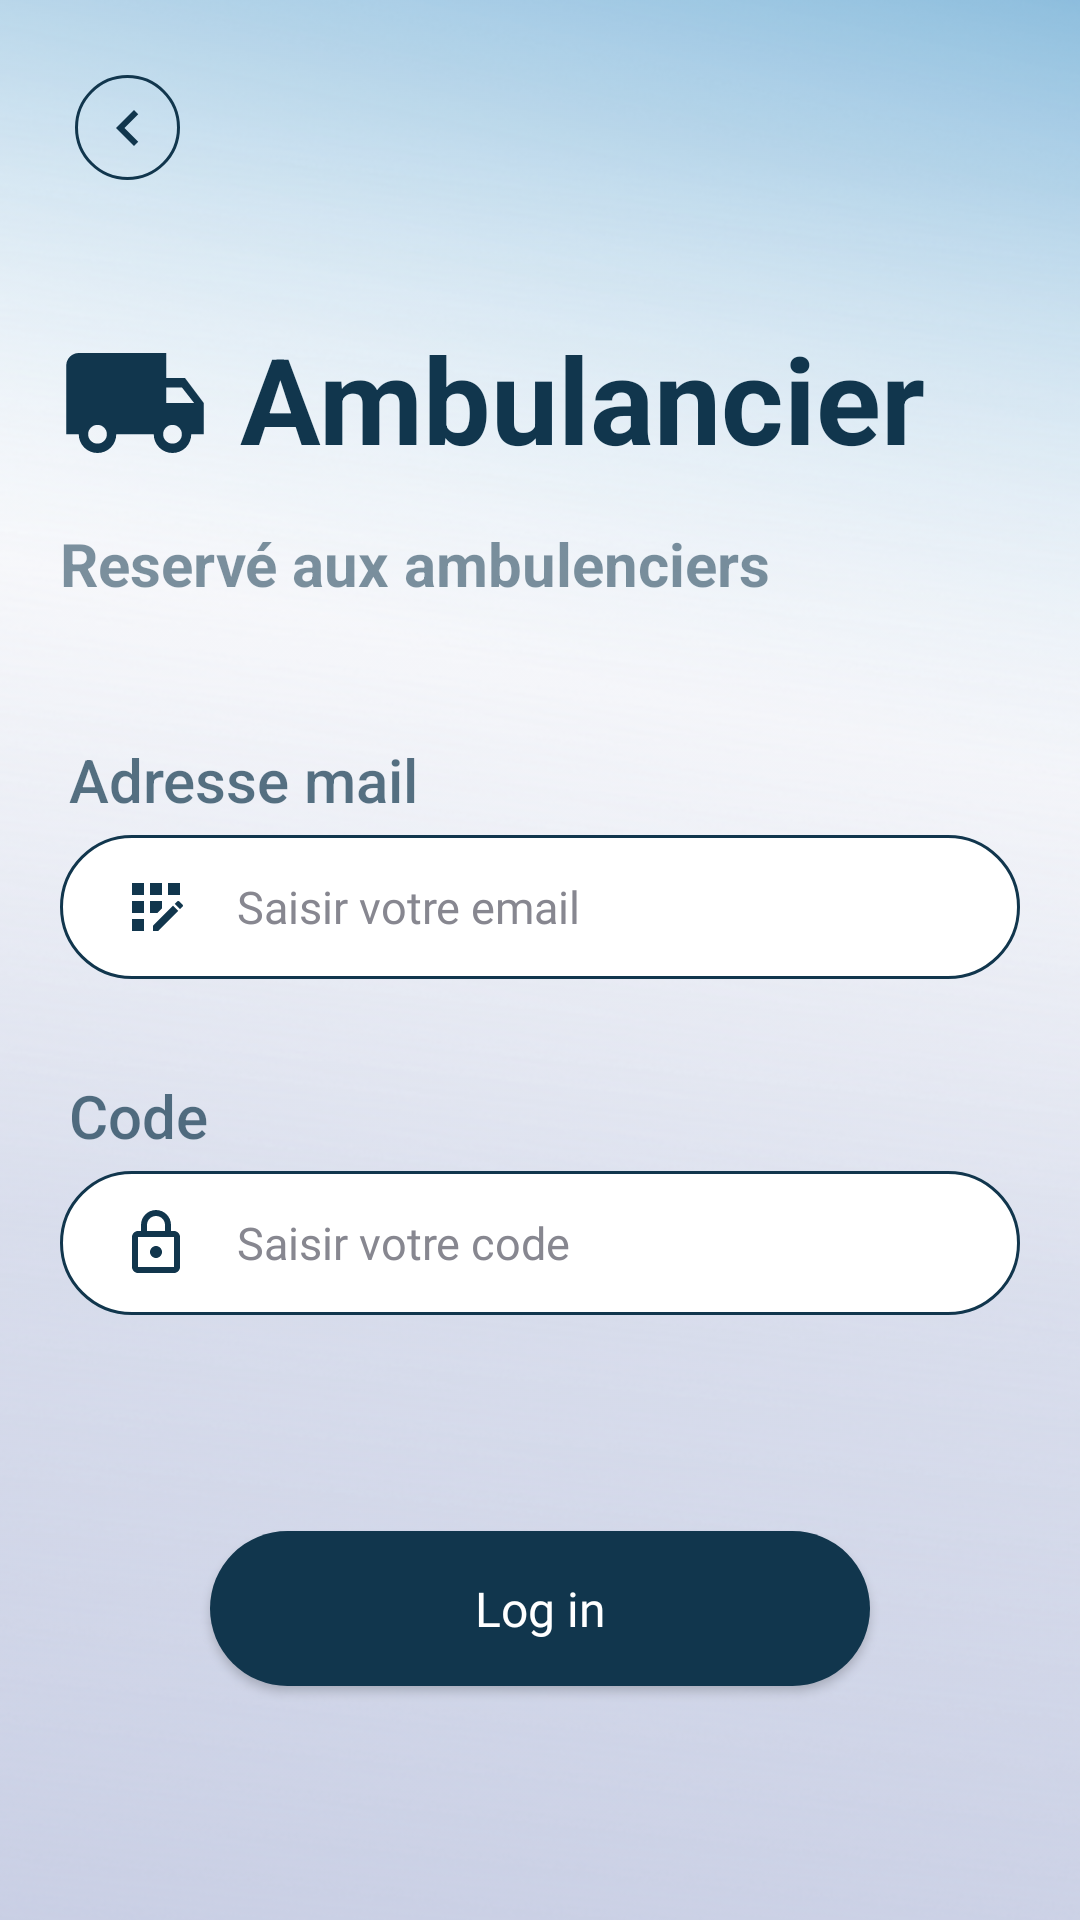

Named icons in this screenshot (1080w x 1920h) and their centers, [x,y]:
local shipping: [135,403]
navigate before: [127,127]
